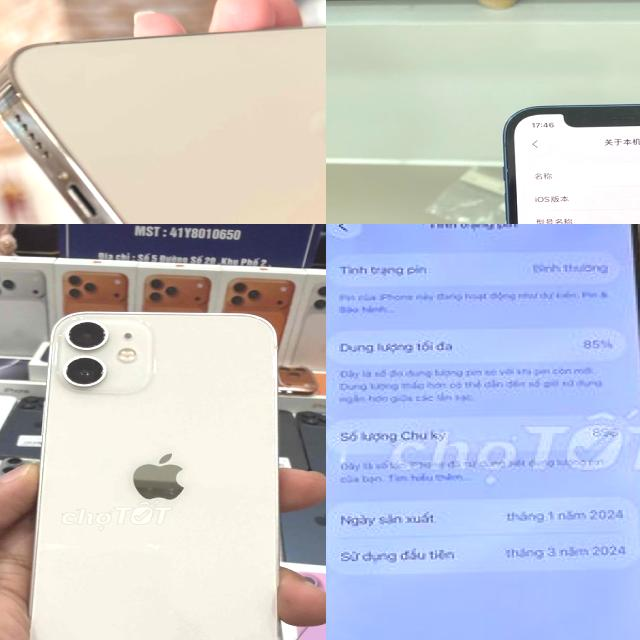gen_12_13: (23, 309, 283, 640), (502, 102, 640, 224)
gen_14: (0, 12, 326, 224)
gen_15: (326, 224, 640, 640)
